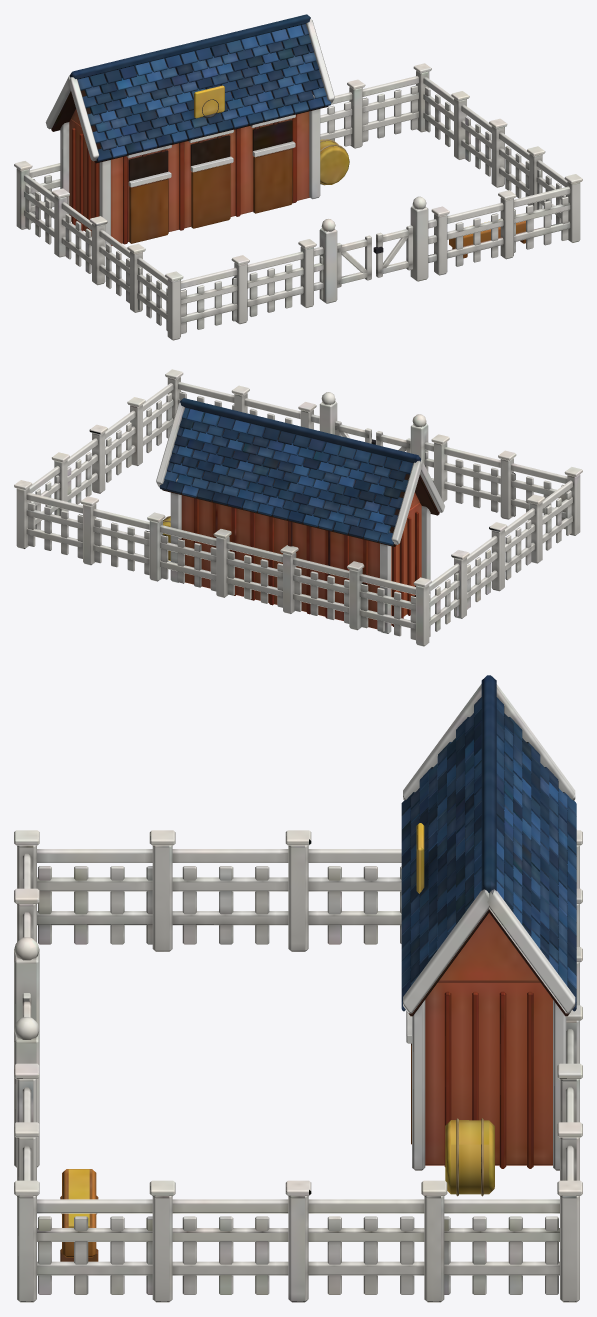
File: clydesdale_stable.glb
3 renders of one model, top to bottom at view 1: azimuth 30°, elevation 25°; view 2: azimuth 150°, elevation 25°; view 3: azimuth 270°, elevation 25°, orthographic. The views are drawn at different scales.
Parts seen in each view (by area): view 1: clydesdale_stable, gate1, gate0; view 2: clydesdale_stable, gate1, gate0; view 3: clydesdale_stable.
Part boxes in pixels (x1=…): clydesdale_stable: x1=14, y1=14, x2=582, y2=340; gate1: x1=373, y1=225, x2=413, y2=277; gate0: x1=337, y1=235, x2=371, y2=287; clydesdale_stable: x1=14, y1=369, x2=582, y2=646; gate1: x1=334, y1=420, x2=375, y2=444; gate0: x1=376, y1=431, x2=410, y2=453; clydesdale_stable: x1=14, y1=675, x2=582, y2=1302.
Bounding box in the file's own units: 2.99 × 1.16 × 1.99.
Materials: 1 (1 with a texture image).
